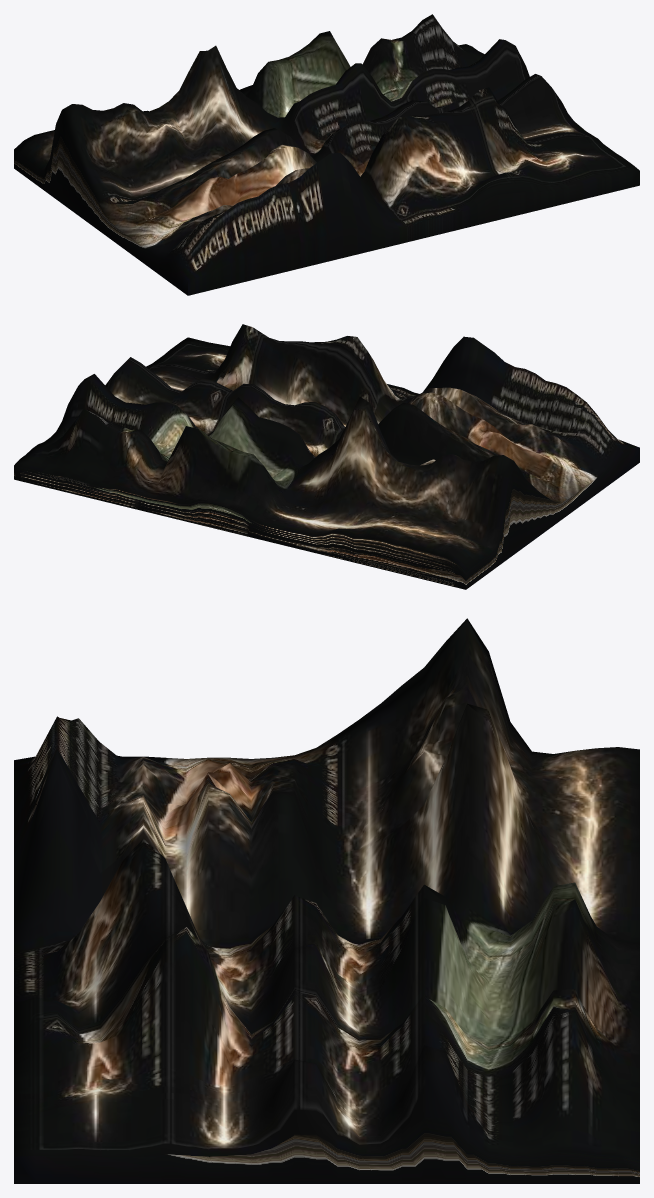
Rendered from CUL_17_Finger_Zhi.glb.
3 renders of one model, top to bottom at view 1: azimuth 30°, elevation 25°; view 2: azimuth 150°, elevation 25°; view 3: azimuth 270°, elevation 25°, orthographic. The views are drawn at different scales.
Parts seen in each view (by area): view 1: CUL_17_Finger_Zhi; view 2: CUL_17_Finger_Zhi; view 3: CUL_17_Finger_Zhi.
Boxes of the visible parts, left/top/right/bottom form: CUL_17_Finger_Zhi: left=14, top=14, right=639, bottom=295; CUL_17_Finger_Zhi: left=14, top=324, right=639, bottom=589; CUL_17_Finger_Zhi: left=14, top=618, right=639, bottom=1183.
Bounding box in the file's own units: 2 × 0.51 × 1.33.
Materials: 1 (1 with a texture image).
